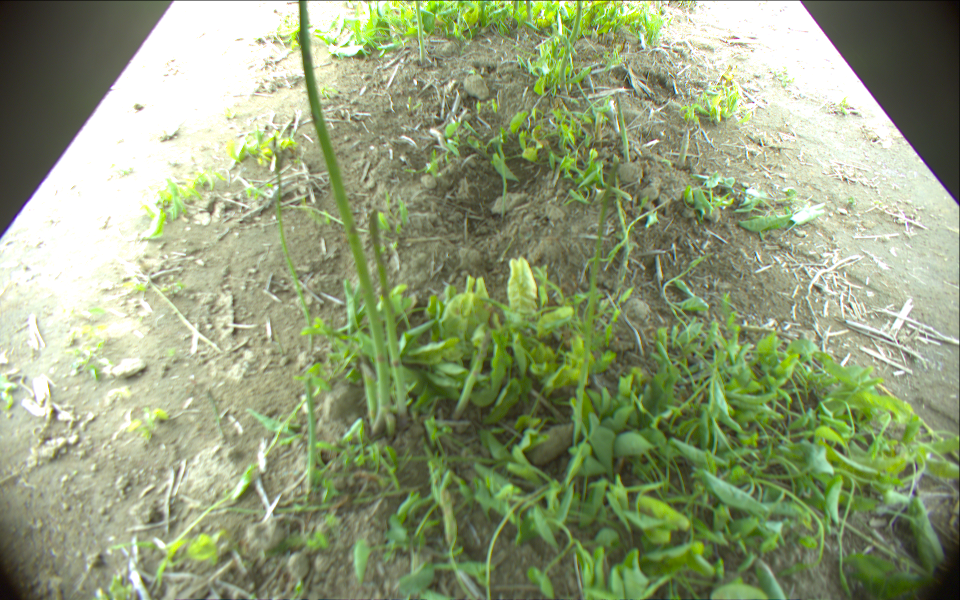aspa: (296, 1, 389, 435), (575, 156, 625, 407), (276, 143, 317, 351), (367, 209, 408, 416), (450, 329, 494, 416), (299, 372, 317, 489), (362, 359, 379, 430), (562, 1, 584, 53), (615, 91, 631, 159), (413, 1, 426, 64), (676, 126, 691, 166)
